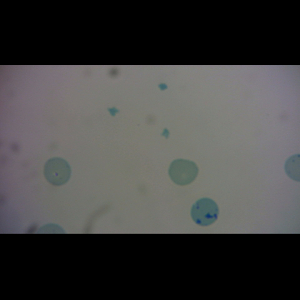aggregate reticulocyte: (190, 196, 220, 227)
erythrocyte: (167, 158, 200, 187), (43, 157, 72, 187)
